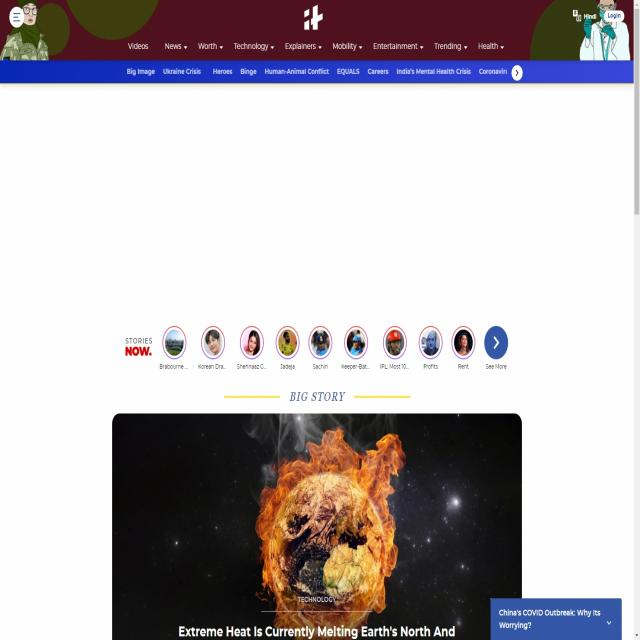menu-bar: (121, 35, 512, 58)
menu-panel: (121, 59, 528, 83)
